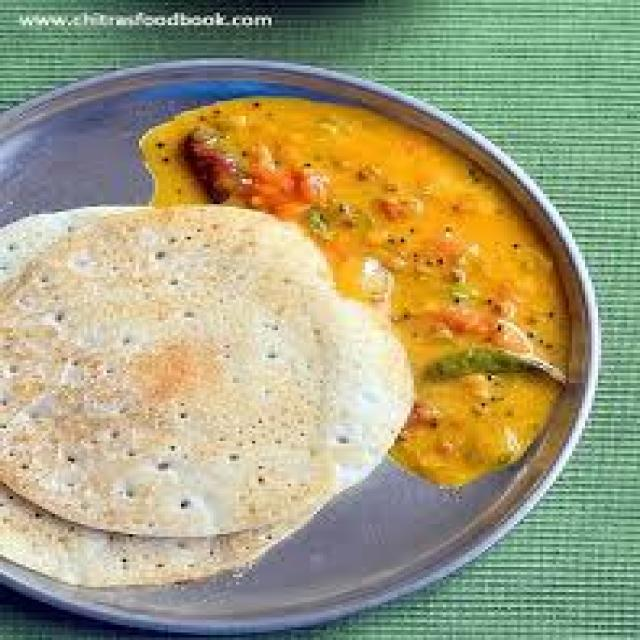DOSA: (0, 201, 407, 538)
